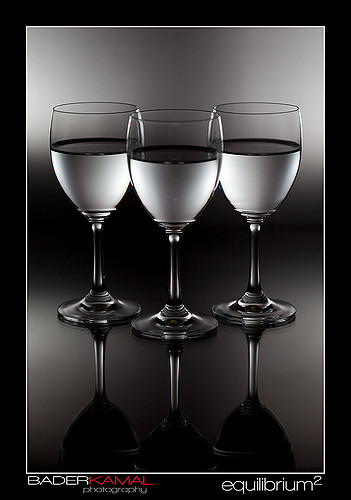glass of water: (50, 102, 144, 328), (130, 109, 218, 348), (212, 100, 299, 330)
